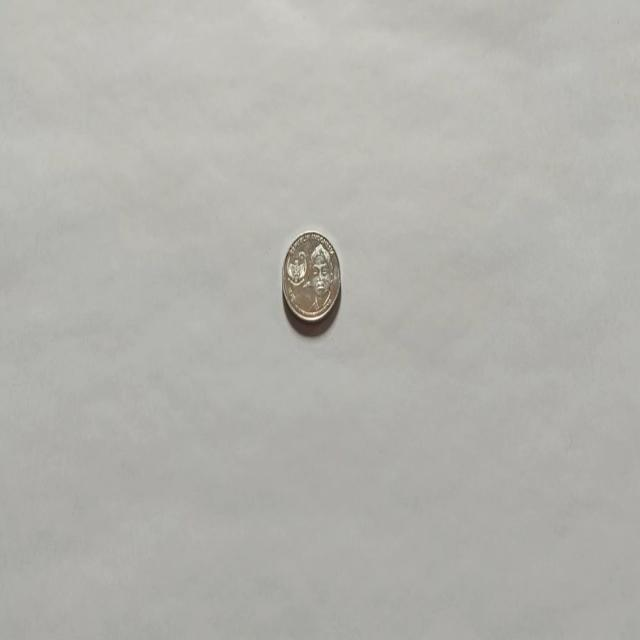dua ratus rupiah: (280, 230, 342, 324)
